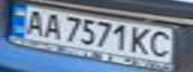1: (109, 22, 130, 52)
5: (78, 17, 96, 46)
7: (60, 15, 84, 43), (93, 19, 112, 48)
A: (18, 7, 48, 37), (39, 11, 66, 40)
C: (145, 28, 178, 58)
K: (127, 25, 154, 56)
